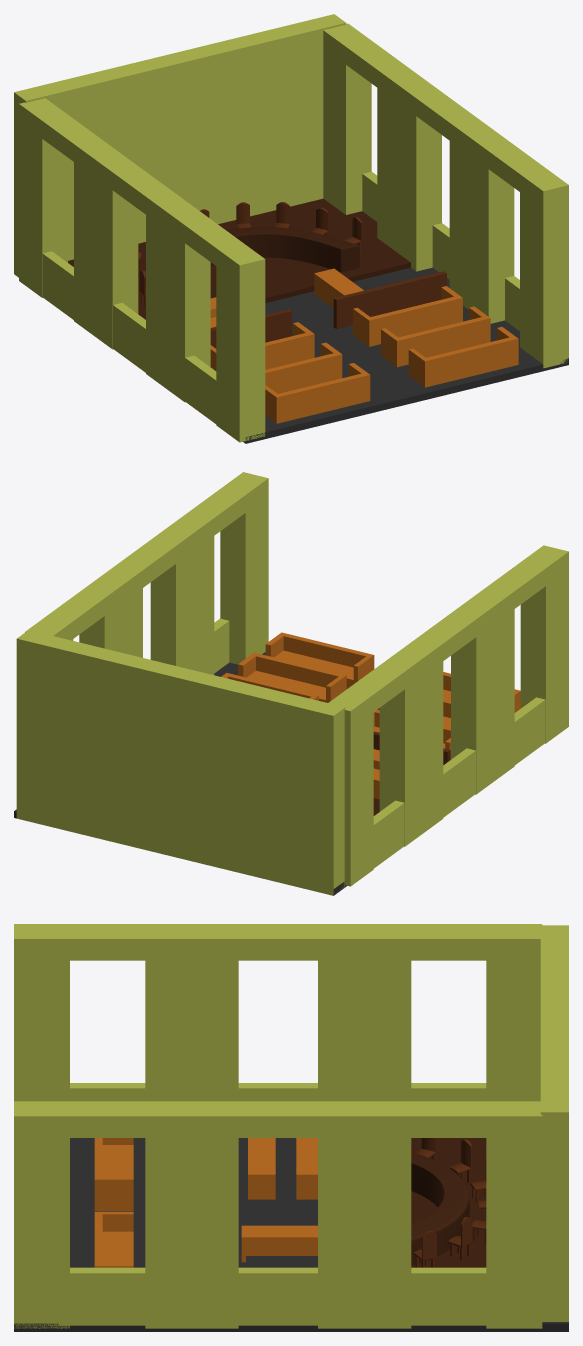
Rendered from FBX_Audience.fbx.
3 views of the same model, one above another, from view 1: azimuth 30°, elevation 25°; view 2: azimuth 150°, elevation 25°; view 3: azimuth 270°, elevation 25° (orthographic). The views are drawn at different scales.
Visible parts, largest first — view 1: Salle_Audiances; view 2: Salle_Audiances; view 3: Salle_Audiances.
Boxes of the visible parts, box(x1,y1,x2,y2) form: Salle_Audiances: box(14, 14, 568, 443); Salle_Audiances: box(14, 472, 568, 895); Salle_Audiances: box(14, 924, 568, 1331).
Size of the model in its own units: 2264 by 1195 by 2760.
